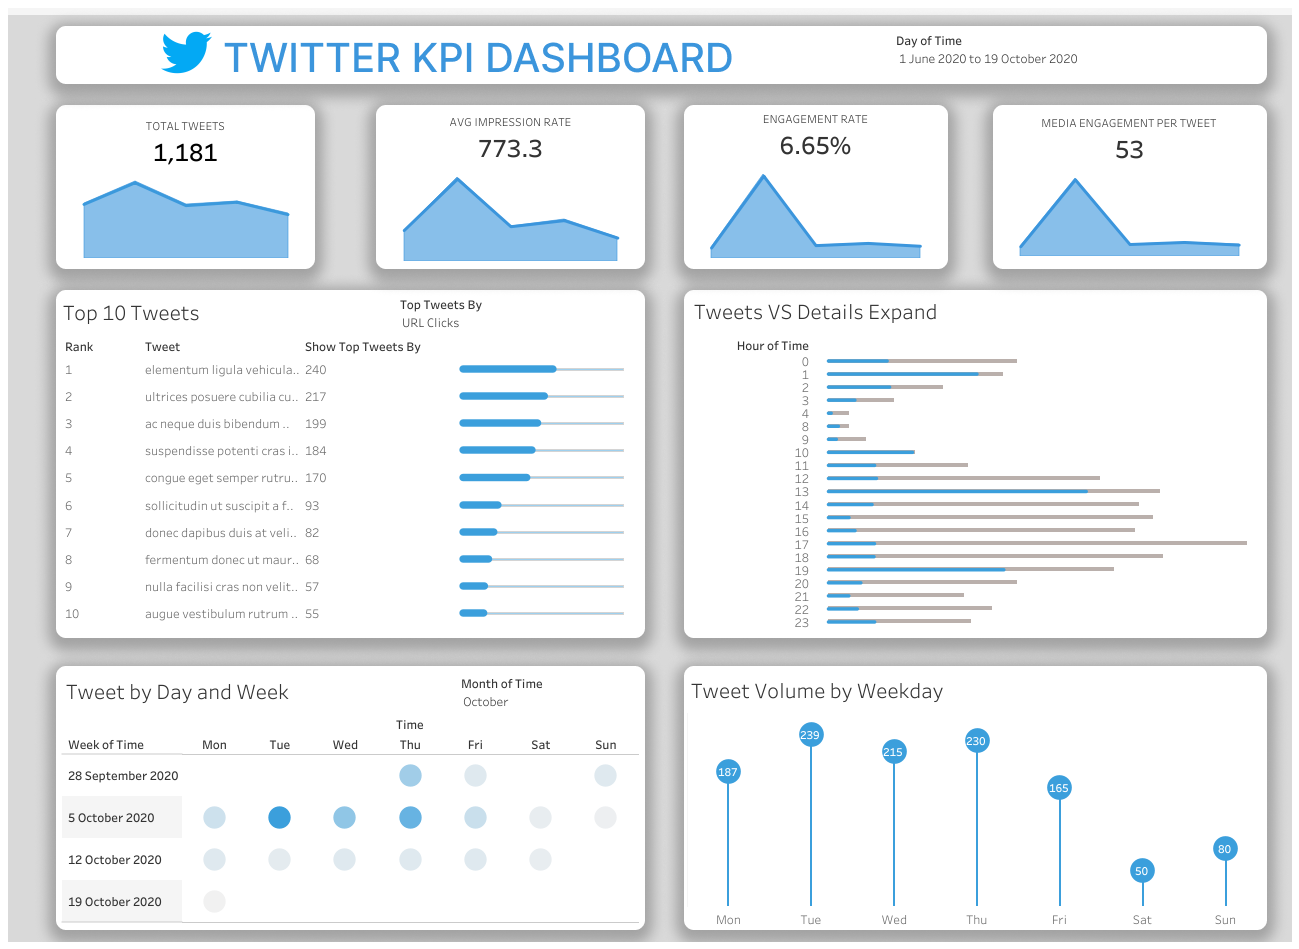

Layout of this report page (visuals, bound fields, positions):
{"tool":"tableau","page":{"name":"Twitter KPI Dashboard","canvas":[1300,950],"ordinal":0},"visuals":[{"type":"image","param":"C:/Users/Ifelo/Downloads/New folder/twitter.png","box":[8,8,1284,934]},{"type":"image","param":"C:/Users/Ifelo/Downloads/New folder/twitter icon.png","box":[161,27,64,51]},{"type":"filter","title":"Tweet by Day and Week","param":"[federated.0etbwj10c6b0ev1h75ujb0gkby34].[tdy:time:qk]","box":[896,30,361,49]},{"type":"worksheet","title":"ENGAGEMENT RATE","mark":"Automatic","rows":["engagements","engagements"],"cols":["time"],"box":[685,104,261,154]},{"type":"worksheet","title":"AVG IMPRESSION RATE","mark":"Automatic","rows":["impressions","impressions"],"cols":["time"],"box":[377,107,267,154]},{"type":"worksheet","title":"MEDIA ENGAGEMENT PER TWEET","mark":"Area","rows":["engagements","engagements"],"cols":["time"],"box":[993,108,273,148]},{"type":"worksheet","title":"TOTAL TWEETS","mark":"Area","rows":["Tweet","Tweet"],"cols":["time"],"box":[58,111,255,147]},{"type":"worksheet","title":"Tweets VS Details Expand","mark":"Automatic","rows":["time"],"cols":["Tweet"],"box":[690,291,578,337]},{"type":"worksheet","title":"Top 10 Tweets","mark":"Automatic","rows":["Calculation_865254093123252232","Tweet","Calculation_865254093116088327"],"cols":["Calculation_865254093124800521"],"box":[59,292,572,334]},{"type":"parameter","param":"[Parameters].[Parameter 1]","box":[400,294,225,43]},{"type":"worksheet","title":"Tweet Volume by Weekday","mark":"Automatic","rows":["Tweet","Tweet"],"cols":["time"],"box":[687,670,580,258]},{"type":"worksheet","title":"Tweet by Day and Week","mark":"Circle","rows":["time"],"cols":["time"],"box":[62,671,578,252]},{"type":"filter","title":"Tweet by Day and Week","param":"[federated.0etbwj10c6b0ev1h75ujb0gkby34].[mn:time:ok]","box":[461,673,160,44]}]}

Visuals, with their boxes in screenshot pixels (x1, y1, x2, y2), scaled from the page's 1300x950 canvas onto the 1299x949 screenshot:
image: locate(8, 8, 1291, 941)
image: locate(161, 27, 225, 78)
"Tweet by Day and Week" filter: locate(895, 30, 1256, 79)
"ENGAGEMENT RATE" worksheet: locate(684, 104, 945, 258)
"AVG IMPRESSION RATE" worksheet: locate(377, 107, 644, 261)
"MEDIA ENGAGEMENT PER TWEET" worksheet (Area marks): locate(992, 108, 1265, 256)
"TOTAL TWEETS" worksheet (Area marks): locate(58, 111, 313, 258)
"Tweets VS Details Expand" worksheet: locate(689, 291, 1267, 627)
"Top 10 Tweets" worksheet: locate(59, 292, 631, 625)
parameter: locate(400, 294, 625, 337)
"Tweet Volume by Weekday" worksheet: locate(686, 669, 1266, 927)
"Tweet by Day and Week" worksheet (Circle marks): locate(62, 670, 640, 922)
"Tweet by Day and Week" filter: locate(461, 672, 621, 716)
